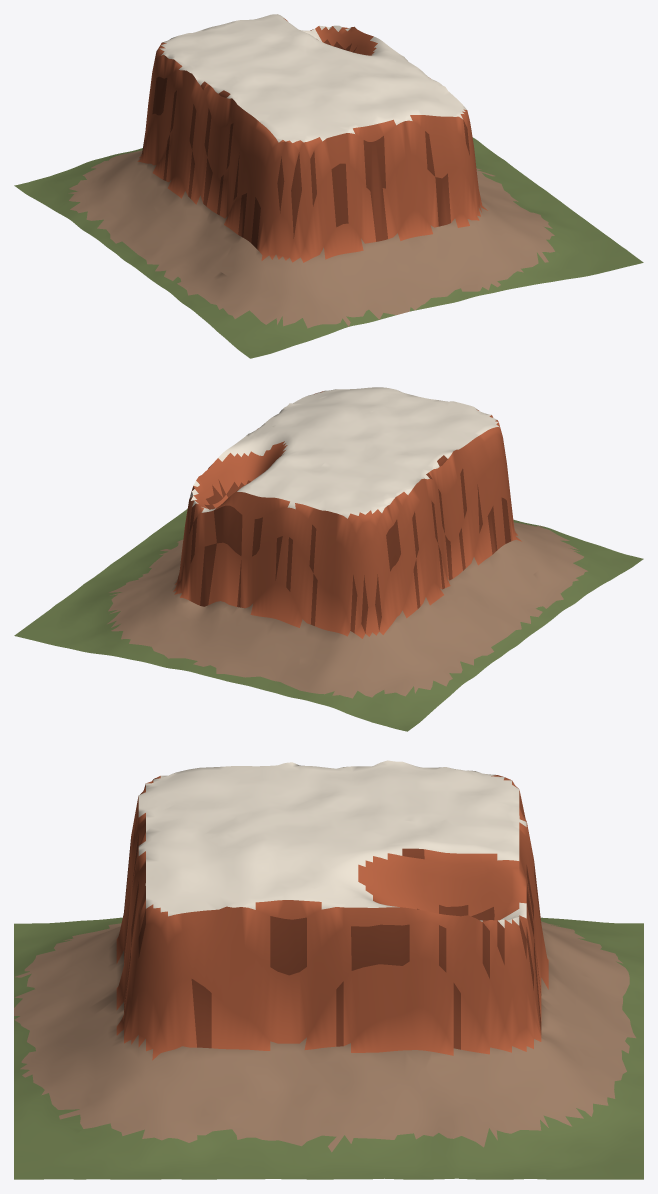
File: landmark-mesa-mid.glb
3 views of the same model, one above another, from view 1: azimuth 30°, elevation 25°; view 2: azimuth 150°, elevation 25°; view 3: azimuth 270°, elevation 25° (orthographic). The views are drawn at different scales.
Parts seen in each view (by area): view 1: mesa.001; view 2: mesa.001; view 3: mesa.001.
Part boxes in pixels (left/top/right/bottom): mesa.001: left=14, top=14, right=643, bottom=358; mesa.001: left=14, top=387, right=643, bottom=731; mesa.001: left=14, top=760, right=643, bottom=1179.
Bounding box in the file's own units: 2.53 × 1 × 2.63.
